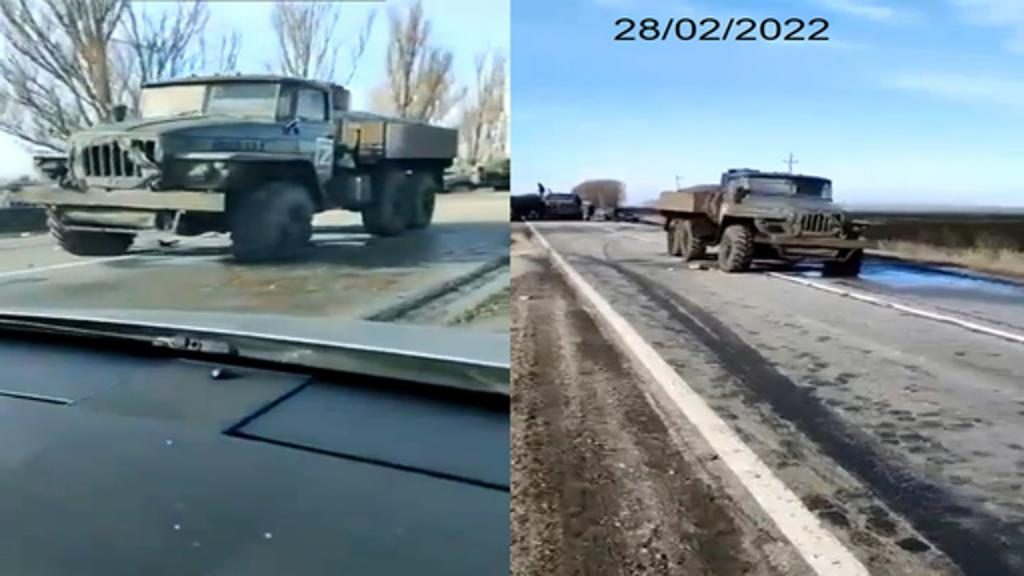TRUCK: (0, 60, 454, 270), (640, 162, 868, 278)
